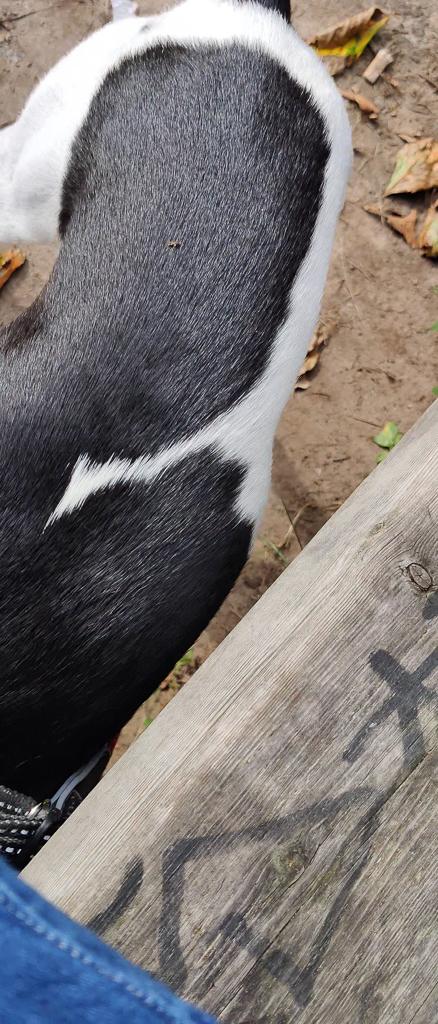Dog: (0, 0, 379, 884)
Humanoid: (0, 842, 245, 1024)
